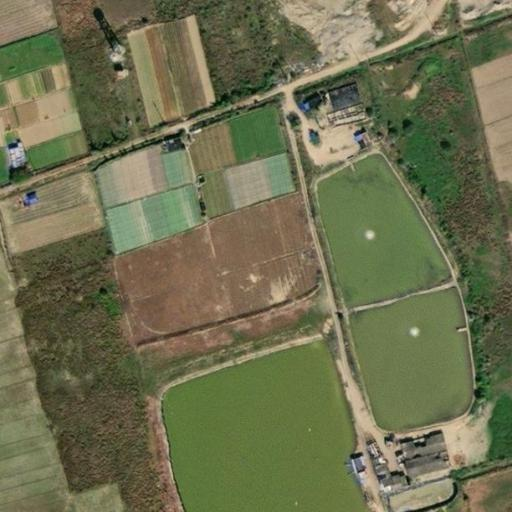building: (393, 427, 453, 481), (325, 77, 363, 110), (370, 472, 394, 493), (0, 143, 19, 165), (345, 131, 362, 145), (341, 456, 354, 473), (368, 469, 378, 478), (349, 477, 359, 485)
